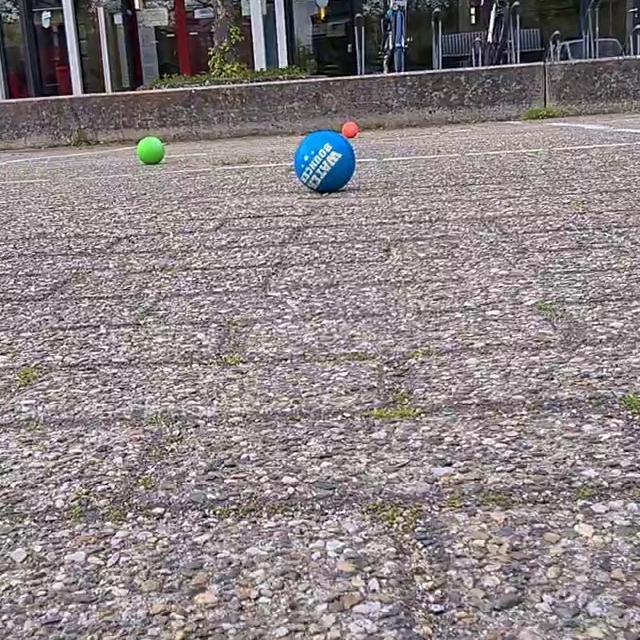ball: (136, 134, 166, 167), (339, 119, 362, 144)
